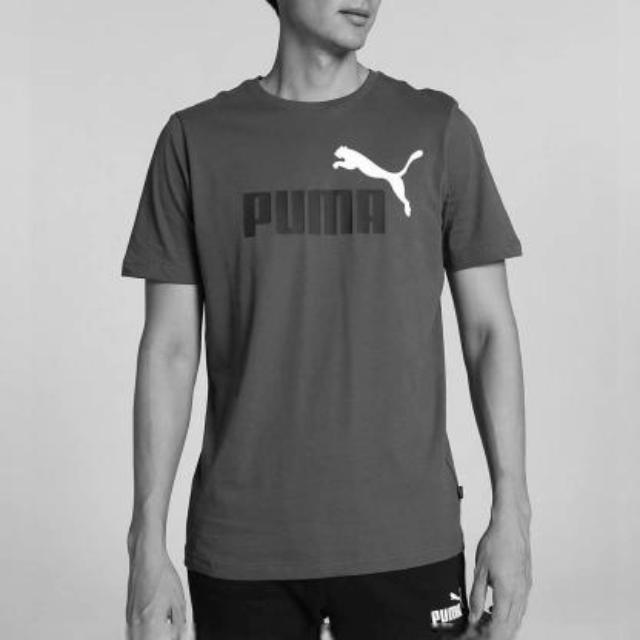PUMA_original: (228, 130, 432, 244)
